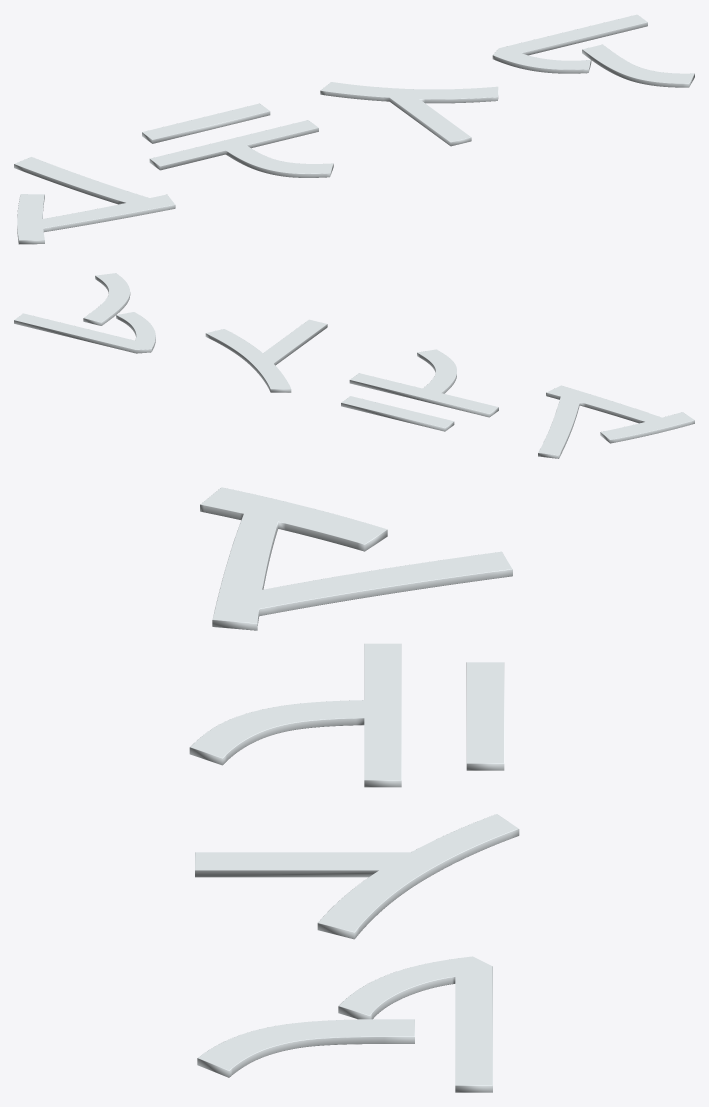
The model's file is category_item.obj.
3 views of the same model, one above another, from view 1: azimuth 30°, elevation 25°; view 2: azimuth 150°, elevation 25°; view 3: azimuth 270°, elevation 25° (orthographic). The views are drawn at different scales.
Parts seen in each view (by area): view 1: category_item; view 2: category_item; view 3: category_item.
Boxes of the visible parts, x1=… form: category_item: x1=14, y1=14, x2=694, y2=244; category_item: x1=14, y1=273, x2=694, y2=458; category_item: x1=189, y1=487, x2=519, y2=1092.
Bounding box in the file's own units: 2.2 × 0.0126 × 0.5118.
Materials: 1 (1 with a texture image).
